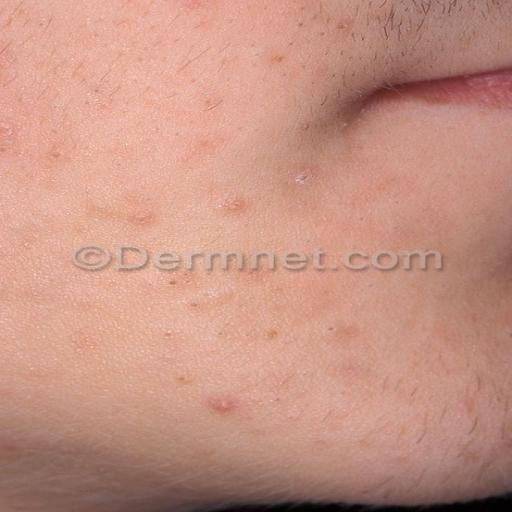Skin_Lesion: (258, 317, 288, 348), (183, 140, 219, 164), (160, 273, 198, 295), (322, 318, 354, 342), (121, 207, 157, 227), (451, 390, 478, 416), (266, 41, 294, 65), (454, 447, 485, 468), (219, 197, 251, 217), (324, 405, 356, 425), (287, 168, 318, 188), (208, 289, 239, 309), (204, 395, 238, 413), (168, 368, 198, 388), (44, 143, 69, 164), (330, 18, 357, 37), (384, 448, 412, 465), (182, 300, 202, 316)
